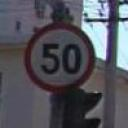speed_limit_50: (23, 22, 97, 94)
